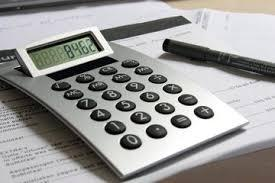Calculator: (6, 23, 250, 177)
